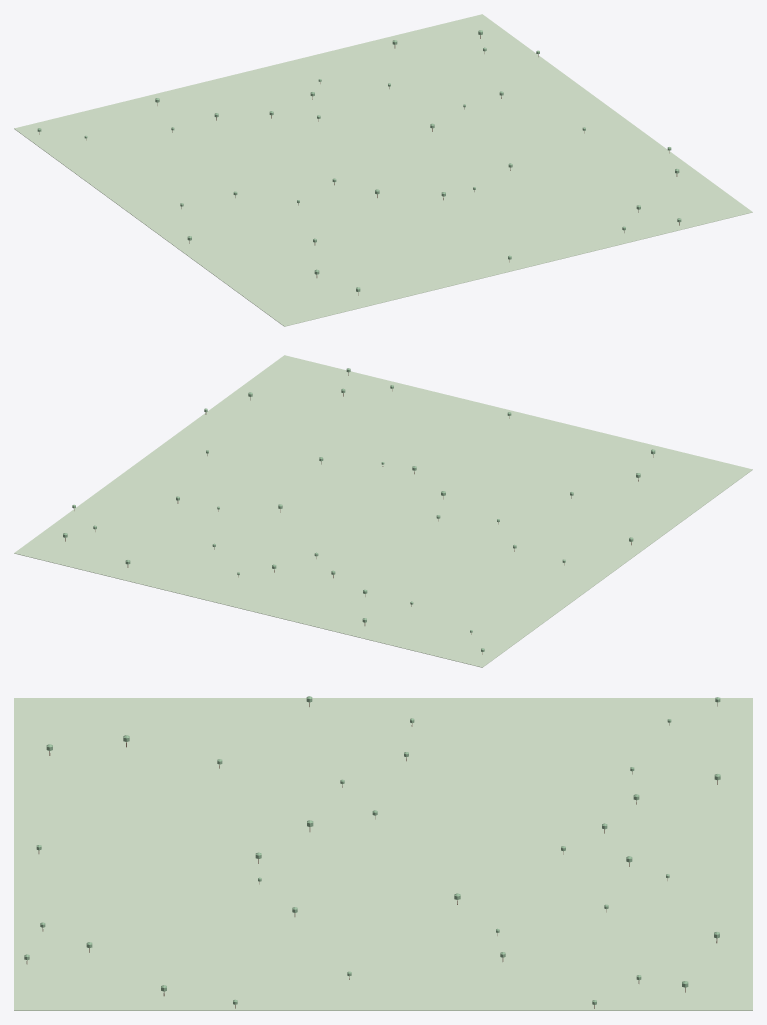
The model's file is chunk_3_1_low.glb.
3 views of the same model, one above another, from view 1: azimuth 30°, elevation 25°; view 2: azimuth 150°, elevation 25°; view 3: azimuth 270°, elevation 25° (orthographic). The views are drawn at different scales.
Parts seen in each view (by area): view 1: city_grass, city_foliage_dark; view 2: city_grass, city_foliage_dark; view 3: city_grass, city_foliage_dark.
Boxes of the visible parts, left/top/right/bottom form: city_grass: left=14, top=14, right=752, bottom=326; city_foliage_dark: left=37, top=30, right=681, bottom=291; city_grass: left=14, top=355, right=752, bottom=667; city_foliage_dark: left=63, top=368, right=655, bottom=651; city_grass: left=14, top=698, right=752, bottom=1010; city_foliage_dark: left=24, top=696, right=720, bottom=1004.
Bounding box in the file's own units: 512 × 9.57 × 512.
